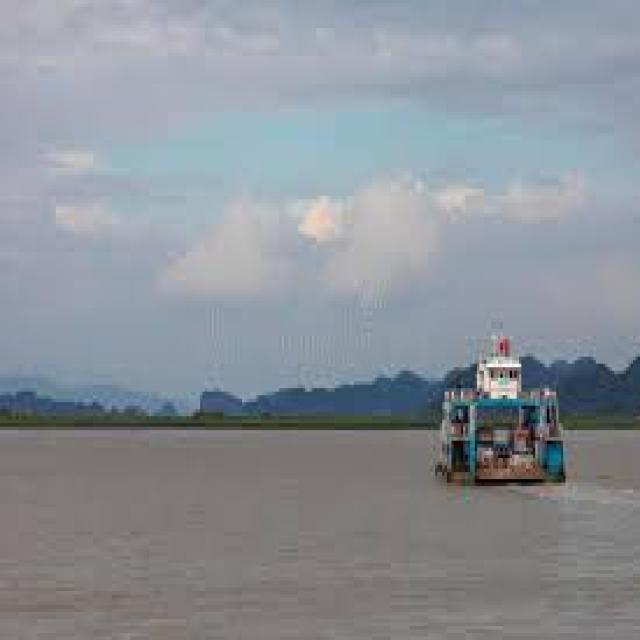cargoship: (408, 319, 566, 496)
